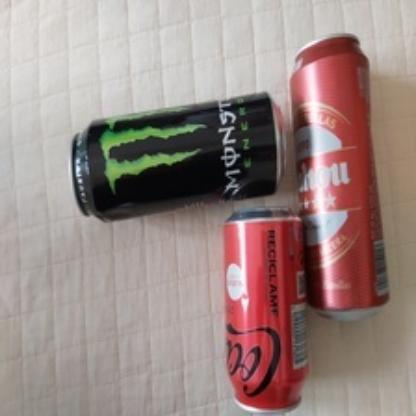Can: (288, 33, 392, 325), (69, 92, 283, 222), (223, 209, 311, 416)
